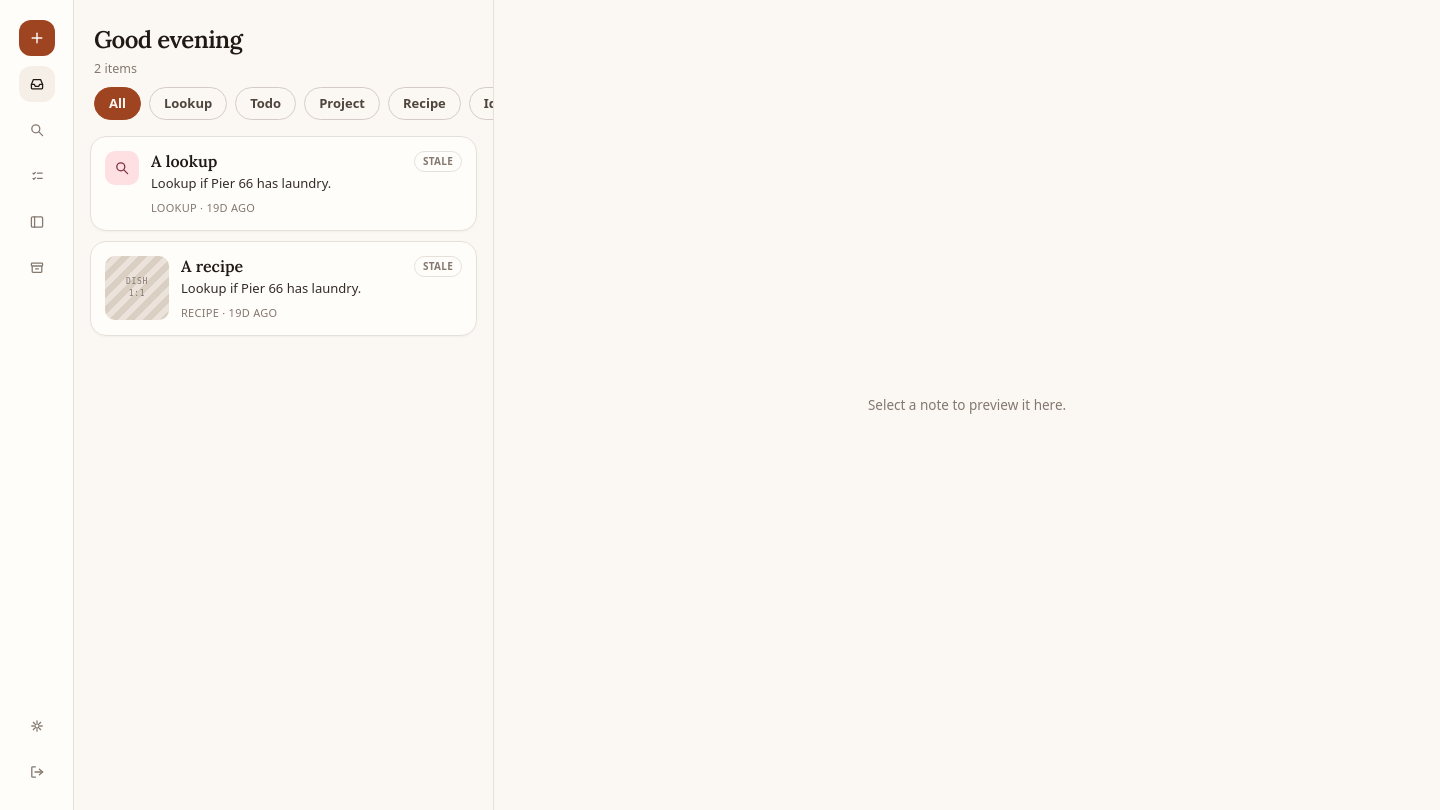
Test: Inbox › filters by category chip
Expected: the text "A lookup" is shown, top-left (151, 151), bottom-right (217, 171)
Expected: the text "A recipe" is shown, top-left (181, 256), bottom-right (243, 276)
What coordinates should you click on to do the following:
click the button "Recipe"
I would click on:
 (424, 104)
Its box is top-left (388, 87), bottom-right (461, 120).
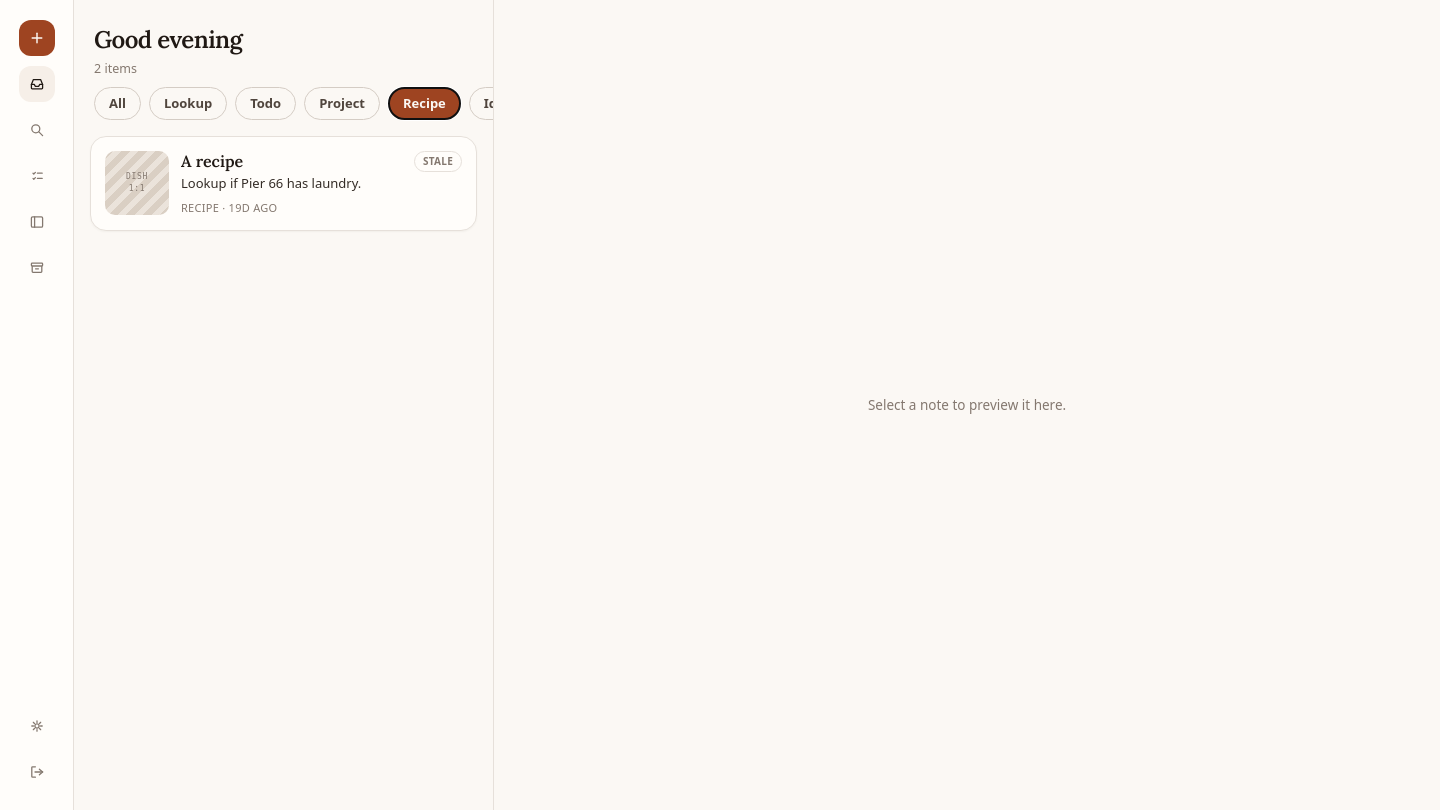
Expected: the text "A recipe" is shown, top-left (181, 151), bottom-right (243, 171)
Expected: the button "A lookup" is gone
